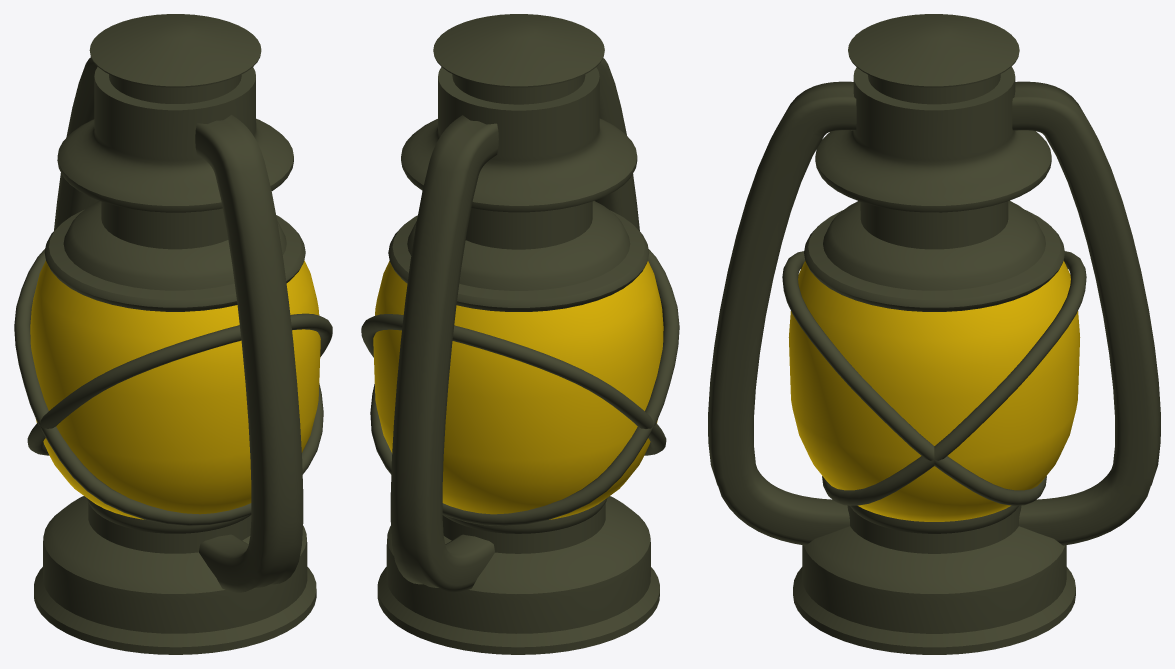
File: farol.fbx
The picture shows the model from 3 angles, left to right: view 1: azimuth 30°, elevation 25°; view 2: azimuth 150°, elevation 25°; view 3: azimuth 270°, elevation 25°; orthographic projection.
Parts seen in each view (by area): view 1: Sphere_001, Sphere, BezierCurve, Cylinder, Torus; view 2: Sphere_001, Sphere, Cylinder, BezierCurve, Torus; view 3: Sphere_001, BezierCurve, Sphere, Cylinder, Torus.
Boxes of the visible parts, left/top/right/bottom form: Sphere_001: left=44, top=14, right=305, bottom=311; Sphere: left=30, top=260, right=320, bottom=519; BezierCurve: left=54, top=57, right=303, bottom=592; Cylinder: left=34, top=496, right=316, bottom=654; Torus: left=14, top=248, right=332, bottom=525; Sphere_001: left=388, top=14, right=649, bottom=311; Sphere: left=373, top=261, right=663, bottom=519; Cylinder: left=377, top=496, right=659, bottom=654; BezierCurve: left=390, top=58, right=639, bottom=592; Torus: left=361, top=249, right=679, bottom=526; Sphere_001: left=804, top=14, right=1064, bottom=311; BezierCurve: left=708, top=81, right=1160, bottom=545; Sphere: left=788, top=261, right=1080, bottom=521; Cylinder: left=793, top=505, right=1075, bottom=654; Torus: left=782, top=251, right=1086, bottom=505.
Bounding box in the file's own units: 238 × 470 × 342.
